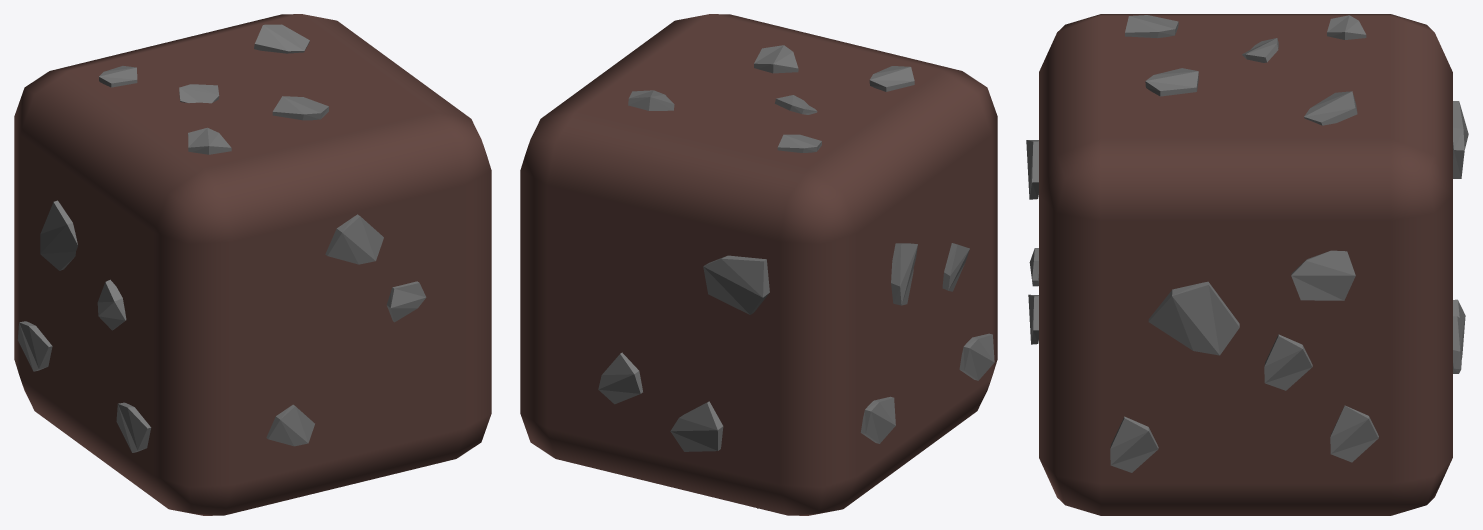
The model's file is SM_Dirt.fbx.
3 views of the same model, side by side, from view 1: azimuth 30°, elevation 25°; view 2: azimuth 150°, elevation 25°; view 3: azimuth 270°, elevation 25° (orthographic). The views are drawn at different scales.
Visible parts, largest first — view 1: Cube.024; view 2: Cube.024; view 3: Cube.024.
Boxes of the visible parts, box(x1,y1,x2,y2) form: Cube.024: box(14, 14, 491, 515); Cube.024: box(520, 14, 997, 515); Cube.024: box(1026, 14, 1468, 515).
Bounding box in the file's own units: 215 × 217 × 214.
